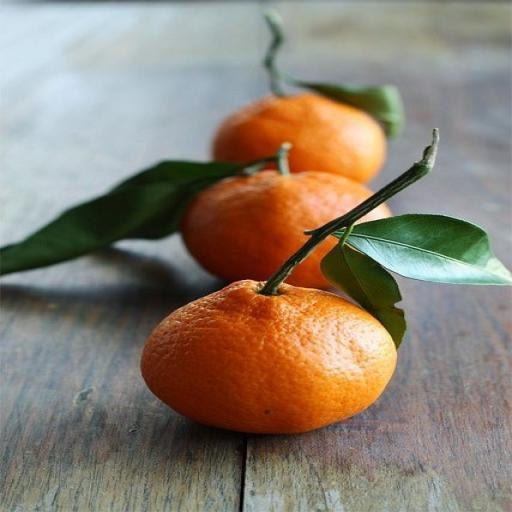orange: (142, 280, 396, 433), (182, 171, 371, 281), (213, 94, 386, 182)
